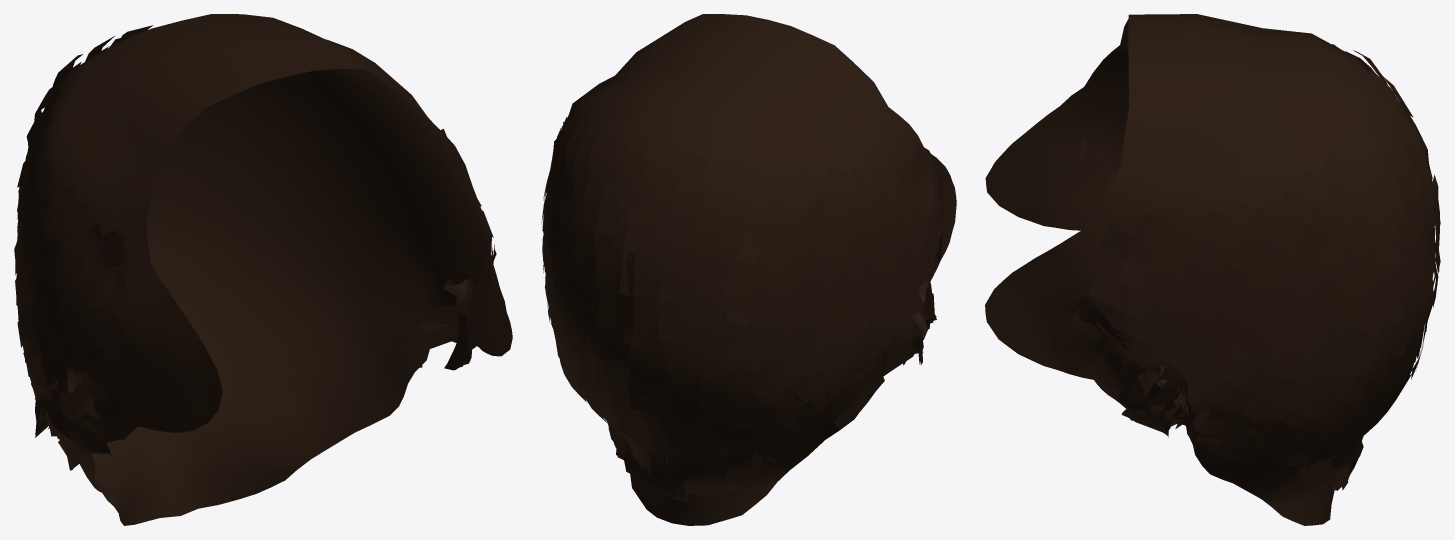
The model's file is hair_thin.glb.
3 views of the same model, side by side, from view 1: azimuth 30°, elevation 25°; view 2: azimuth 150°, elevation 25°; view 3: azimuth 270°, elevation 25° (orthographic). The views are drawn at different scales.
Visible parts, largest first — view 1: hair_thin; view 2: hair_thin; view 3: hair_thin.
Boxes of the visible parts, bbox=[...] form: hair_thin: bbox=[14, 14, 512, 525]; hair_thin: bbox=[541, 14, 956, 525]; hair_thin: bbox=[985, 14, 1440, 525].
Size of the model in its own units: 0.1857 by 0.2131 by 0.1855.
